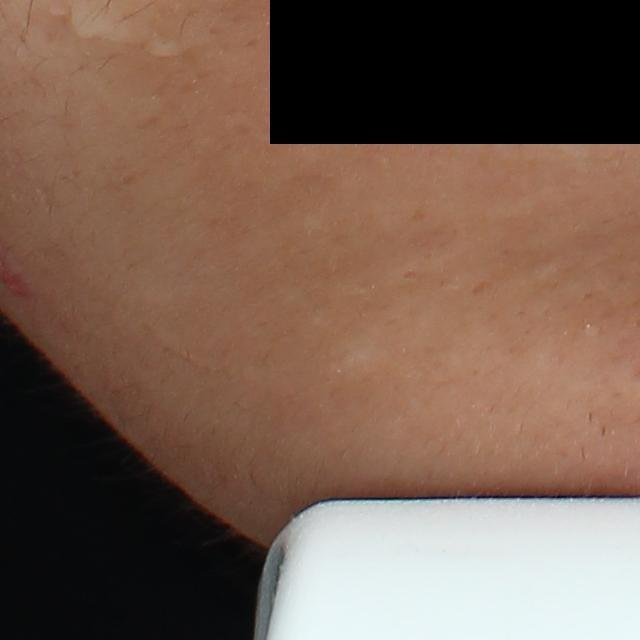hypertrophic_scar: (329, 340, 400, 394)
